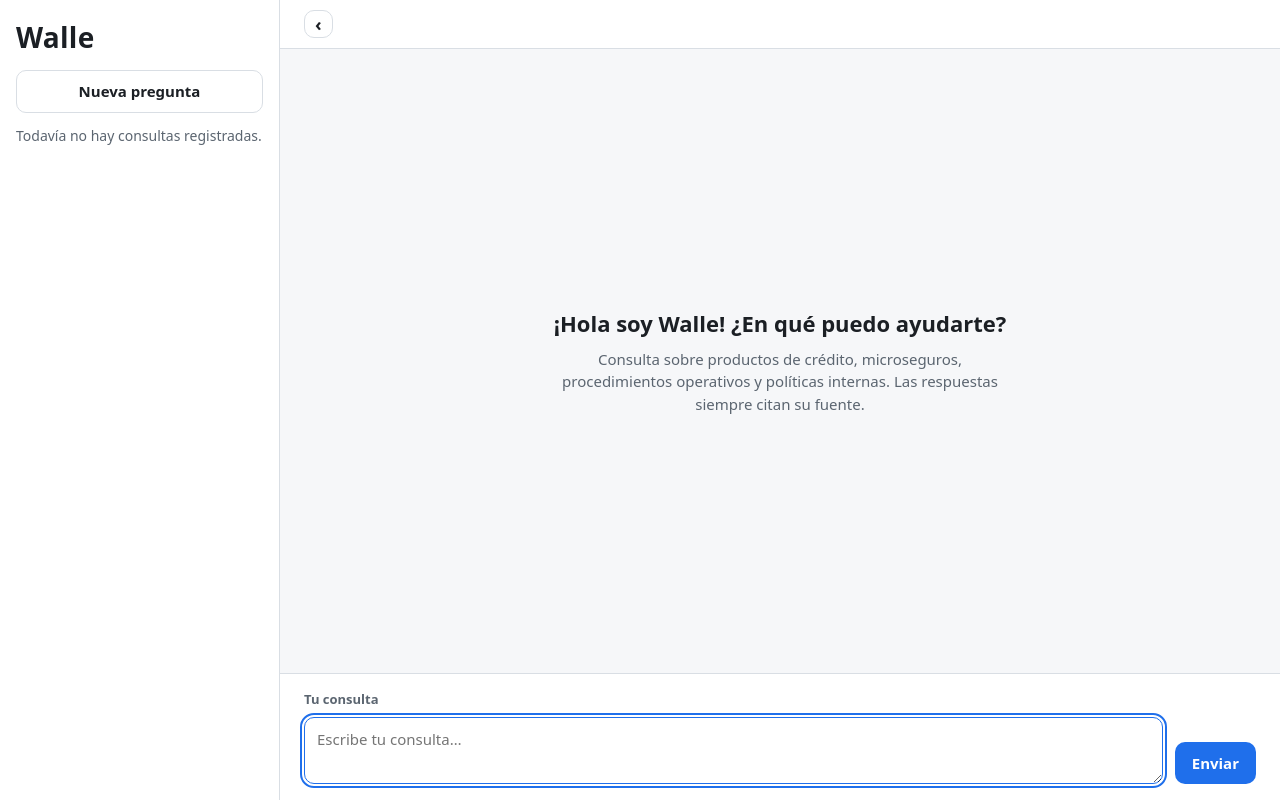
it: Chat › envía la consulta y muestra la respuesta con sus fuentes (RF-01, RF-02, RF-03)
In the text box labelled "Tu consulta": (733, 750) [304, 717, 1163, 784], type "monto máximo"
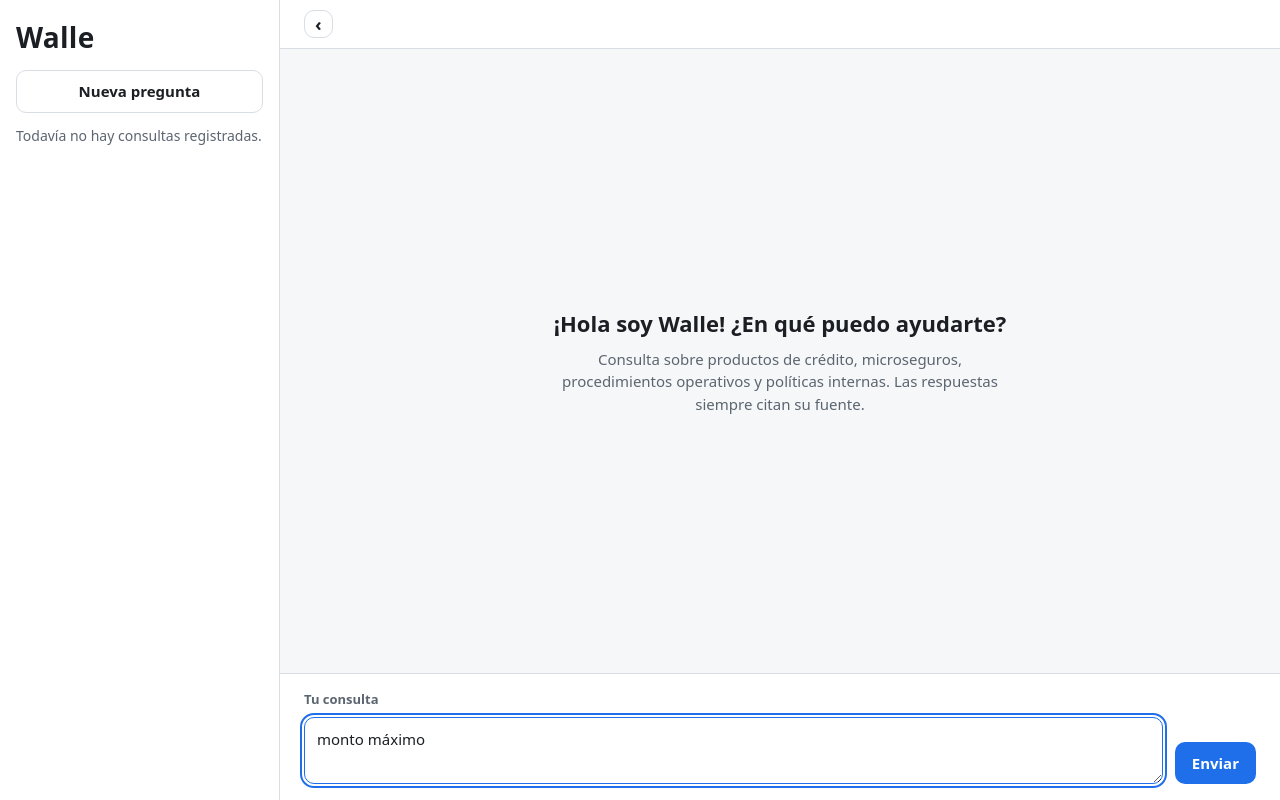
Click the button "Enviar": (1215, 763) [1175, 742, 1256, 784]
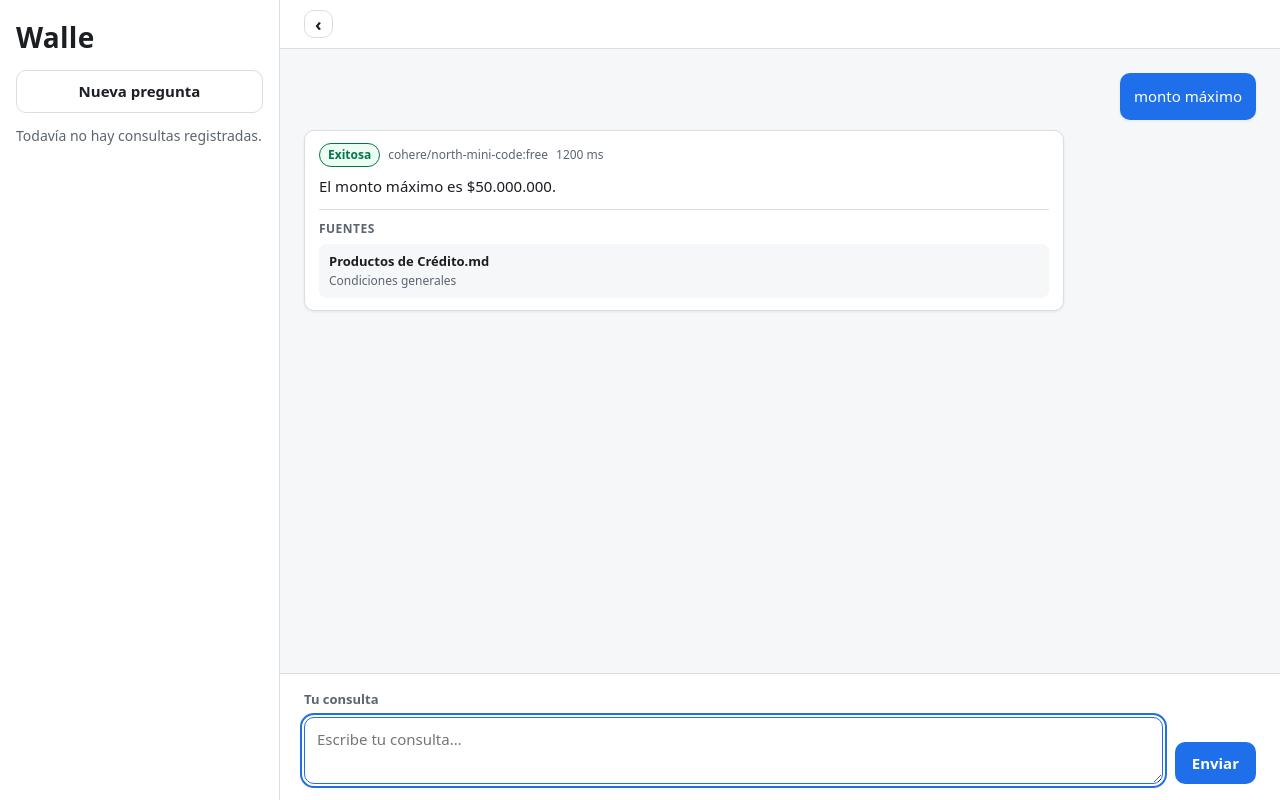
expect the text "El monto máximo es $50.000.000." is shown: met, box [319, 176, 556, 196]
expect the text "Exitosa" is shown: met, box [319, 142, 380, 166]
expect the text "Productos de Crédito.md" is shown: met, box [329, 252, 489, 270]
